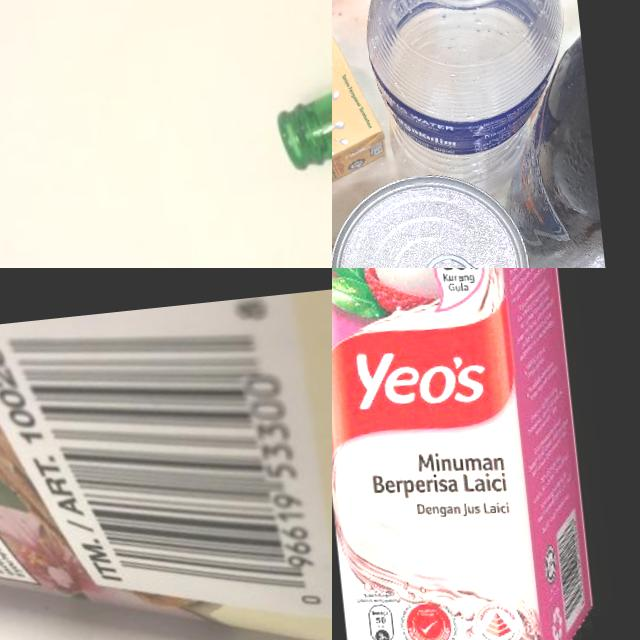aba de lata: (415, 242, 511, 268)
caixinha: (332, 268, 598, 640), (332, 31, 394, 267)
garrafa de vidro: (490, 0, 607, 268)
garrafa plástica: (358, 0, 580, 202)
lata: (332, 171, 539, 268)
papelão: (0, 275, 332, 640)
